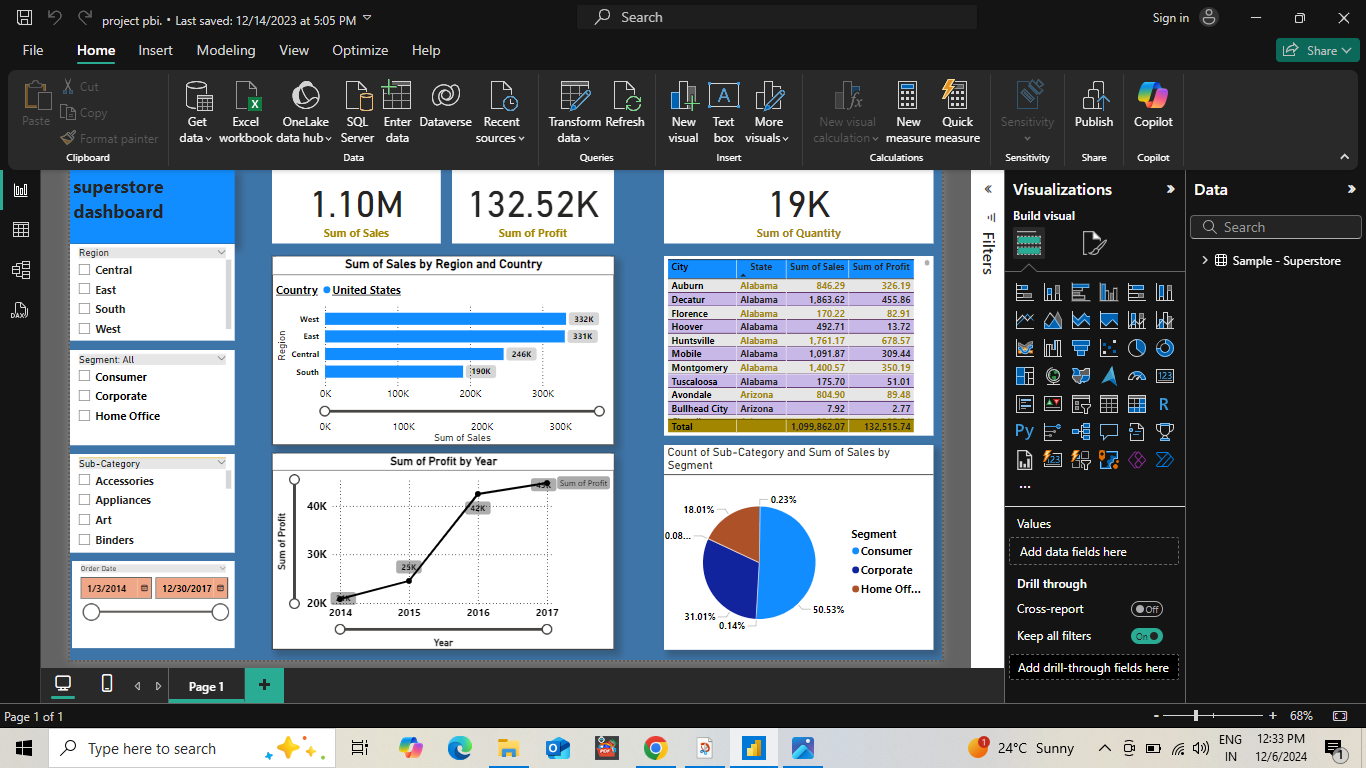

The dashboard page shown, as its layout file describes it:
{"tool":"powerbi","page":{"name":"Page 1","canvas":[1280,720],"ordinal":0},"visuals":[{"type":"clusteredBarChart","fields":{"Category":["Sample - Superstore.Region"],"Y":["Sum(Sample - Superstore.Sales)"],"Series":["Sample - Superstore.Country"]},"box":[296.6,126.7,502.6,277.9],"z":0},{"type":"card","fields":{"Values":["Sum(Sample - Superstore.Sales)"]},"box":[296.6,0,247.7,108],"z":1000},{"type":"card","fields":{"Values":["Sum(Sample - Superstore.Profit)"]},"box":[561.6,0,237.6,108],"z":2000},{"type":"textbox","box":[0,0,241.9,108],"z":3000},{"type":"slicer","fields":{"Values":["Sample - Superstore.Region"]},"box":[0,108.3,241.7,141.7],"z":4000},{"type":"lineChart","fields":{"Y":["Sum(Sample - Superstore.Profit)"],"Category":["Sample - Superstore.Order Date.Variation.Date Hierarchy.Year","Sample - Superstore.Order Date.Variation.Date Hierarchy.Quarter","Sample - Superstore.Order Date.Variation.Date Hierarchy.Month","Sample - Superstore.Order Date.Variation.Date Hierarchy.Day"]},"box":[296.6,416.2,502.6,289.4],"z":5000},{"type":"slicer","fields":{"Values":["Sample - Superstore.Segment"]},"box":[0,265,241.7,140],"z":6000},{"type":"slicer","fields":{"Values":["Sample - Superstore.Sub-Category"]},"box":[0,416.7,241.7,145],"z":7000},{"type":"tableEx","fields":{"Values":["Sample - Superstore.City","Sample - Superstore.State","Sum(Sample - Superstore.Sales)","Sum(Sample - Superstore.Profit)"]},"box":[872.6,126.7,396,263.5],"z":8000},{"type":"slicer","fields":{"Values":["Sample - Superstore.Order Date"]},"box":[2.9,574.6,239,128.2],"z":9000},{"type":"card","fields":{"Values":["Sum(Sample - Superstore.Quantity)"]},"box":[872.6,0,396,108],"z":10000},{"type":"pieChart","fields":{"Y":["CountNonNull(Sample - Superstore.Sub-Category)","Sum(Sample - Superstore.Sales)"],"Category":["Sample - Superstore.Segment"]},"box":[872.6,404.6,396,301],"z":11000}]}

Visuals, with their boxes on the page's 1280x720 design canvas (x1, y1, x2, y2). These are canvas units, not pixel positions in the 1366x768 screenshot, which may show the page scaled, cropped or inside an application window:
clusteredBarChart - Sample - Superstore.Region x Sum(Sample - Superstore.Sales): crop(297, 127, 799, 405)
card - Sum(Sample - Superstore.Sales): crop(297, 0, 544, 108)
card - Sum(Sample - Superstore.Profit): crop(562, 0, 799, 108)
textbox: crop(0, 0, 242, 108)
slicer - Sample - Superstore.Region: crop(0, 108, 242, 250)
lineChart - Sum(Sample - Superstore.Profit) x Sample - Superstore.Order Date.Variation.Date Hierarchy.Year: crop(297, 416, 799, 706)
slicer - Sample - Superstore.Segment: crop(0, 265, 242, 405)
slicer - Sample - Superstore.Sub-Category: crop(0, 417, 242, 562)
tableEx - Sample - Superstore.City x Sample - Superstore.State: crop(873, 127, 1269, 390)
slicer - Sample - Superstore.Order Date: crop(3, 575, 242, 703)
card - Sum(Sample - Superstore.Quantity): crop(873, 0, 1269, 108)
pieChart - CountNonNull(Sample - Superstore.Sub-Category) x Sum(Sample - Superstore.Sales): crop(873, 405, 1269, 706)
